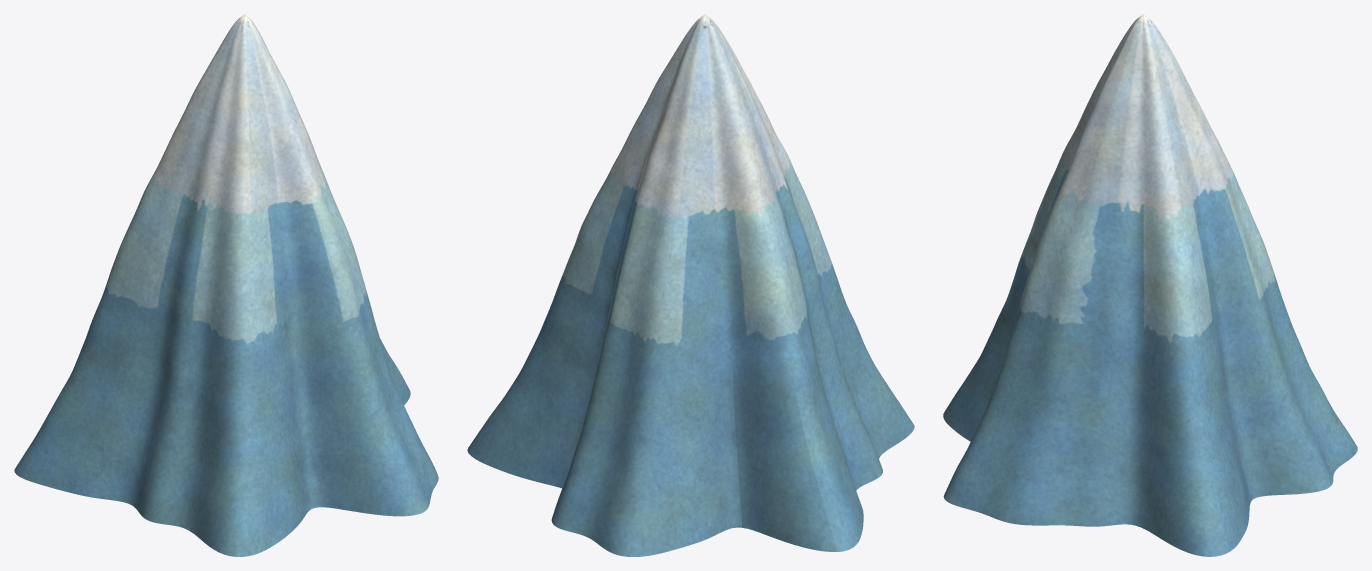
The model's file is WM_SnowPeak_B.fbx.
3 views of the same model, side by side, from view 1: azimuth 30°, elevation 25°; view 2: azimuth 150°, elevation 25°; view 3: azimuth 270°, elevation 25° (orthographic). The views are drawn at different scales.
Parts seen in each view (by area): view 1: WM_SnowPeak_B_LOD0; view 2: WM_SnowPeak_B_LOD0; view 3: WM_SnowPeak_B_LOD0.
Part boxes in pixels (<box>): WM_SnowPeak_B_LOD0: <box>14,14,438,556</box>; WM_SnowPeak_B_LOD0: <box>467,14,914,556</box>; WM_SnowPeak_B_LOD0: <box>943,14,1357,556</box>.
Size of what is drawn, in the model's own units: 9.41 by 10.49 by 8.81.
